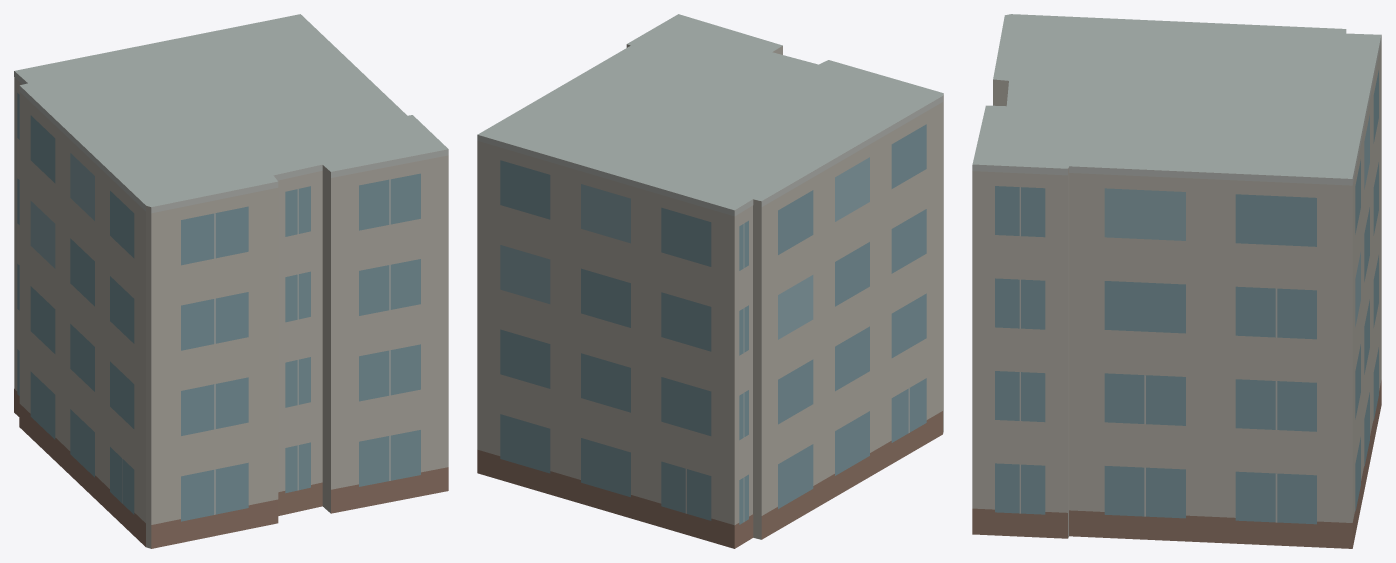
Rendered from survey-upis-32665420.glb.
3 renders of one model, left to right at view 1: azimuth 30°, elevation 25°; view 2: azimuth 150°, elevation 25°; view 3: azimuth 270°, elevation 25°, orthographic. The views are drawn at different scales.
Visible parts, largest first — view 1: survey-upis-32665420.tmp; view 2: survey-upis-32665420.tmp; view 3: survey-upis-32665420.tmp.
Part boxes in pixels (x1,y1,x2,y2): survey-upis-32665420.tmp: (14,14,448,548); survey-upis-32665420.tmp: (477,14,943,548); survey-upis-32665420.tmp: (972,14,1381,548).
Bounding box in the file's own units: 13.02 × 13.6 × 13.64.
